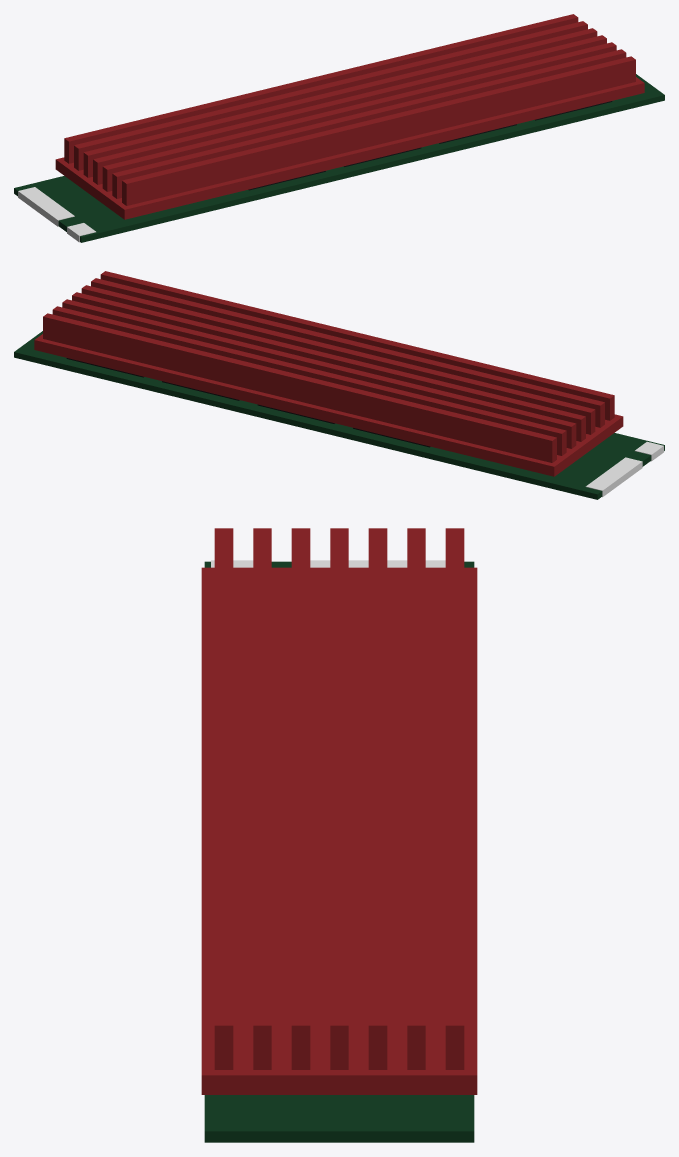
Rendered from hw_sto_nvme4_4tb.glb.
3 views of the same model, one above another, from view 1: azimuth 30°, elevation 25°; view 2: azimuth 150°, elevation 25°; view 3: azimuth 270°, elevation 25° (orthographic). The views are drawn at different scales.
Parts seen in each view (by area): view 1: Body; view 2: Body; view 3: Body.
Boxes of the visible parts, left/top/right/bottom form: Body: left=14, top=14, right=664, bottom=242; Body: left=14, top=271, right=664, bottom=499; Body: left=201, top=528, right=477, bottom=1142.
Bounding box in the file's own units: 0.1101 × 0.0083 × 0.0225.
